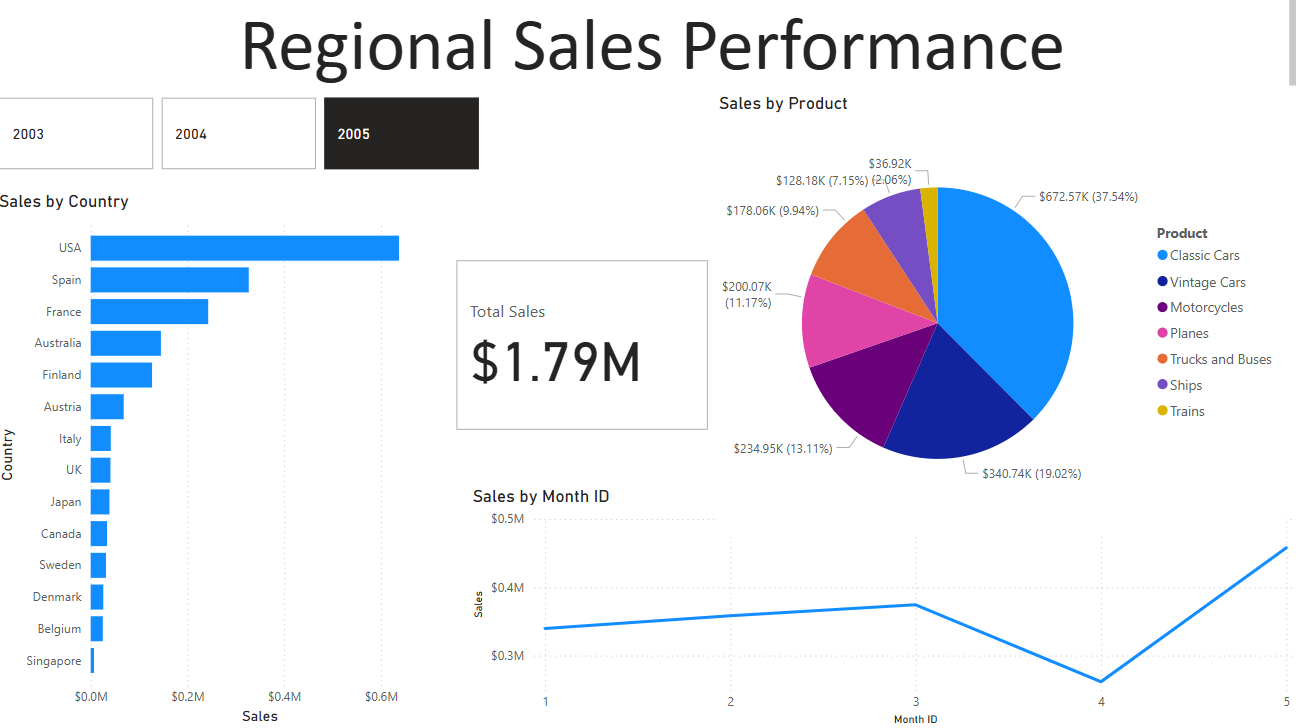

The dashboard page shown, as its layout file describes it:
{"tool":"powerbi","page":{"name":"Page 1","canvas":[1280,720],"ordinal":0},"visuals":[{"type":"textbox","box":[16,0,1264,96],"z":0},{"type":"advancedSlicerVisual","fields":{"Values":["sales_data_sample.YEAR_ID"]},"box":[0,96,480,80],"z":1000},{"type":"barChart","title":"Sales by Country","fields":{"Y":["Sum(sales_data_sample.SALES)"],"Category":["sales_data_sample.COUNTRY"]},"box":[0,192,448,528],"z":2000},{"type":"lineChart","fields":{"Category":["sales_data_sample.MONTH_ID"],"Y":["Sum(sales_data_sample.SALES)"]},"box":[464,480,816,240],"z":3000},{"type":"pieChart","fields":{"Y":["Sum(sales_data_sample.SALES)"],"Category":["sales_data_sample.PRODUCTLINE"]},"box":[704,96,560,432],"z":4000},{"type":"cardVisual","fields":{"Data":["Sum(sales_data_sample.SALES)"]},"box":[448,256,256,176],"z":5000}]}

Visuals, with their boxes in screenshot pixels (x1, y1, x2, y2), scaled from the page's 1280x720 canvas onto the 1296x728 screenshot:
textbox: 16:0:1295:97
advancedSlicerVisual - sales_data_sample.YEAR_ID: 0:97:486:178
"Sales by Country" barChart: 0:194:454:727
lineChart - sales_data_sample.MONTH_ID x Sum(sales_data_sample.SALES): 470:485:1295:727
pieChart - Sum(sales_data_sample.SALES) x sales_data_sample.PRODUCTLINE: 713:97:1280:534
cardVisual - Sum(sales_data_sample.SALES): 454:259:713:437
